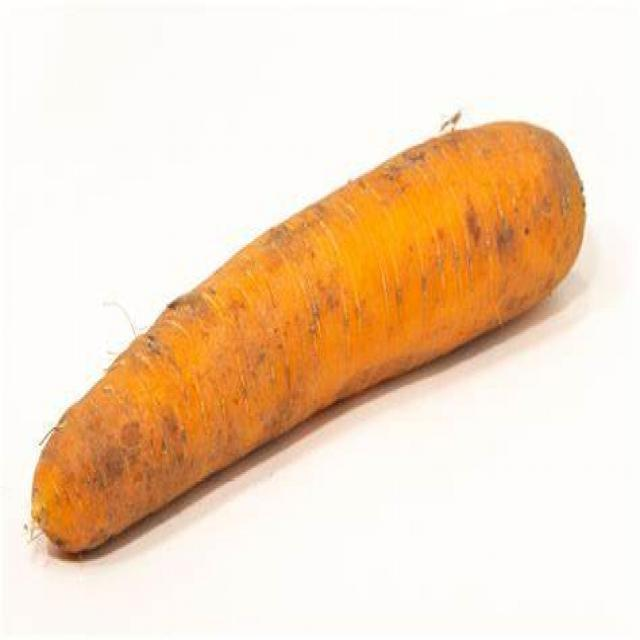Carrot: (36, 115, 592, 555)
